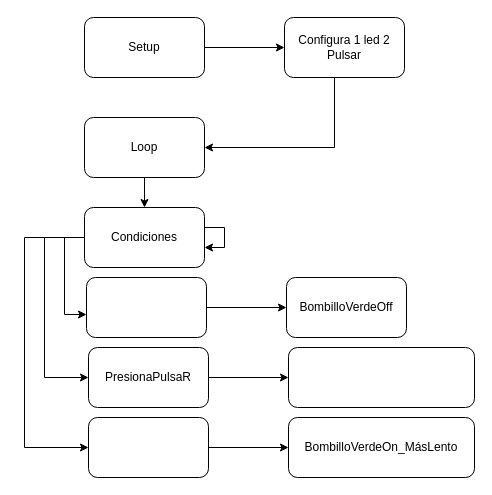
Image size: 492x495. Some labels were removed from this diagram. The centre of each missing label's shape, as x and y in pixels:
"BombilloVerdeOn_MásRapido" goes at point (381, 377).
"NoUsoPulsador" goes at point (146, 307).
"PresionaPulsaL" goes at point (148, 447).
